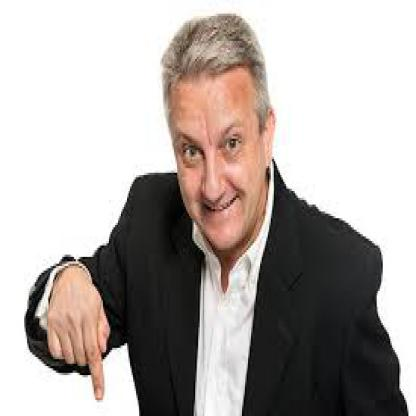Down: (41, 266, 120, 404)
